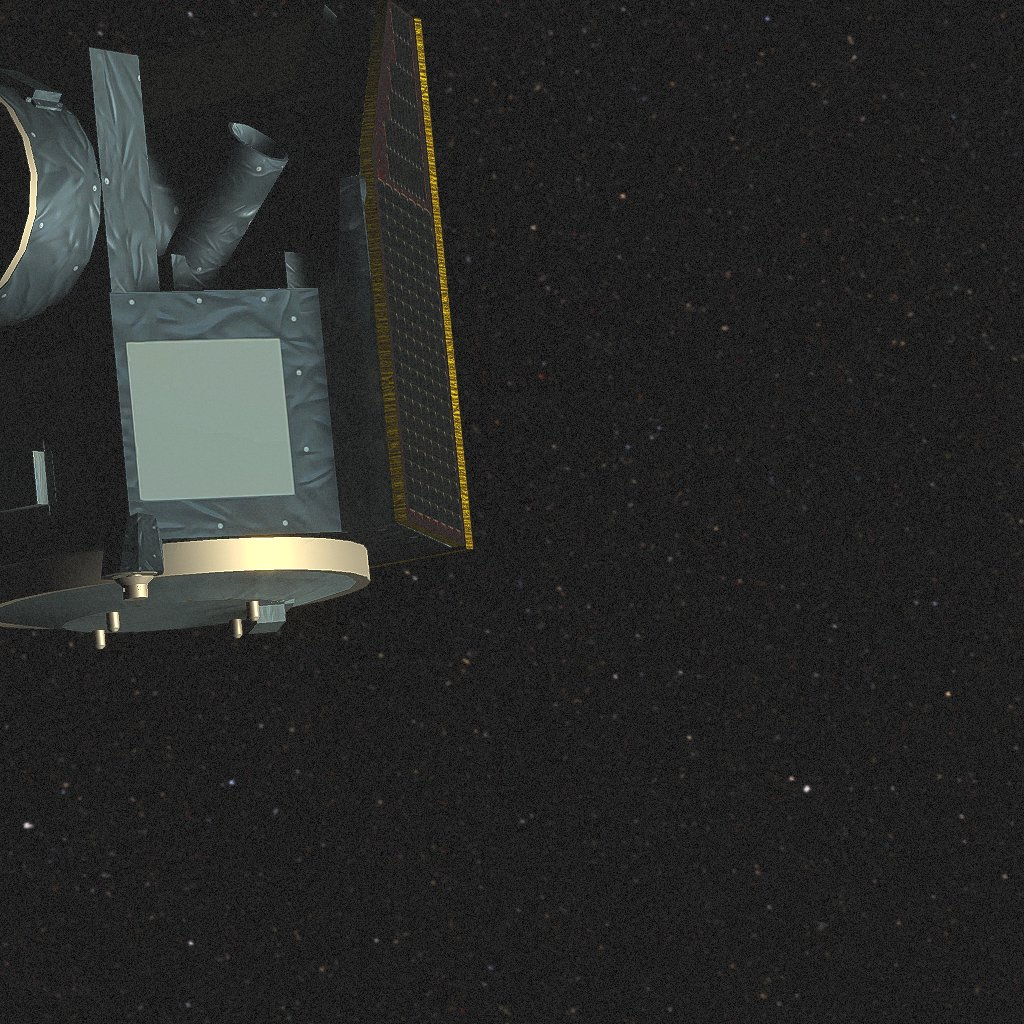cheops: (0, 0, 473, 649)
